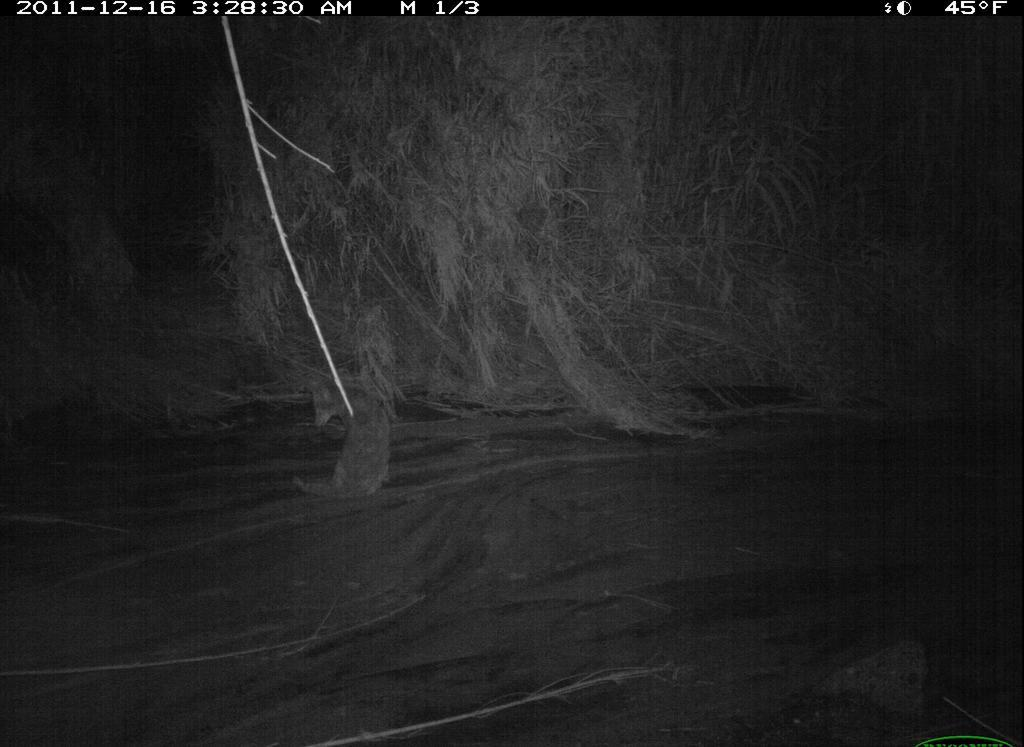coyote: (287, 374, 402, 505)
